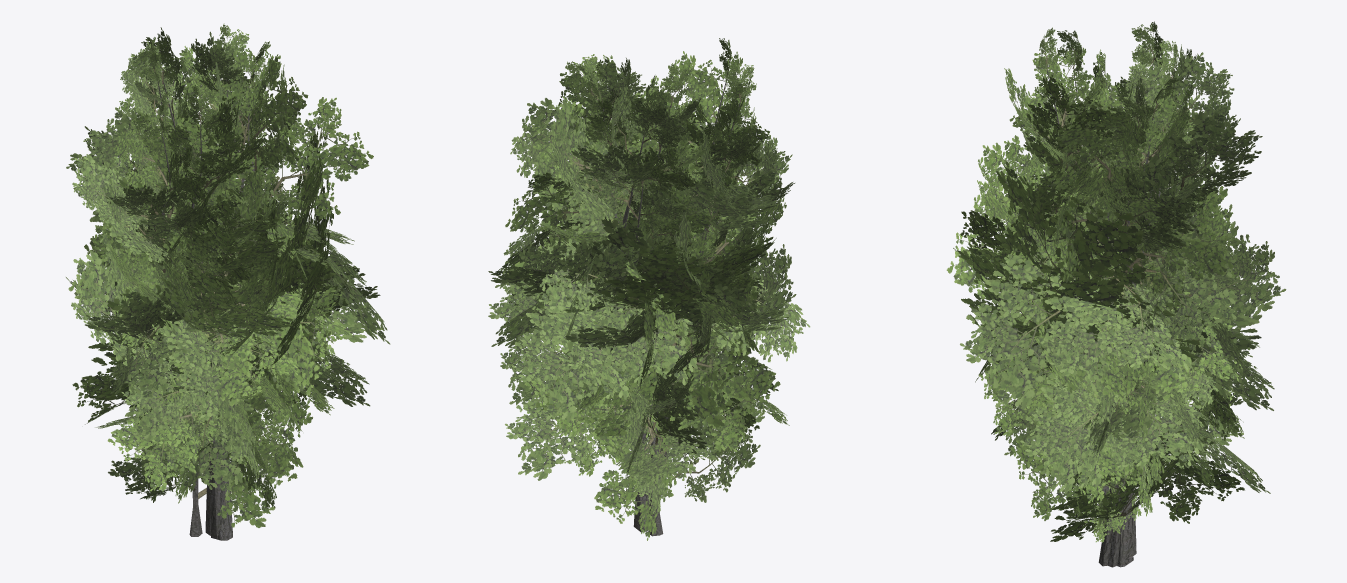
The model's file is 1_Trees-03.fbx.
3 views of the same model, side by side, from view 1: azimuth 30°, elevation 25°; view 2: azimuth 150°, elevation 25°; view 3: azimuth 270°, elevation 25° (orthographic). The views are drawn at different scales.
Parts seen in each view (by area): view 1: Tree-03-2, Tree-03-1, Tree-03-4, Tree-03-3; view 2: Tree-03-2, Tree-03-1, Tree-03-3, Tree-03-4; view 3: Tree-03-2, Tree-03-1, Tree-03-3, Tree-03-4.
Part boxes in pixels (box(x1,y1,x2,y2)): Tree-03-2: box(66, 27, 390, 540); Tree-03-1: box(84, 23, 366, 535); Tree-03-4: box(95, 179, 312, 536); Tree-03-3: box(72, 110, 382, 535); Tree-03-2: box(488, 54, 810, 496); Tree-03-1: box(498, 38, 796, 494); Tree-03-3: box(505, 133, 780, 540); Tree-03-4: box(552, 176, 767, 536); Tree-03-2: box(946, 30, 1286, 566); Tree-03-1: box(953, 21, 1261, 567); Tree-03-3: box(998, 122, 1270, 567); Tree-03-4: box(1010, 168, 1243, 555).
Bounding box in the file's own units: 671 × 914 × 694.
